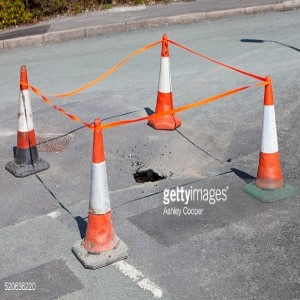traffic cone: (70, 118, 131, 270), (243, 76, 294, 204), (5, 65, 50, 179), (148, 33, 181, 131)
